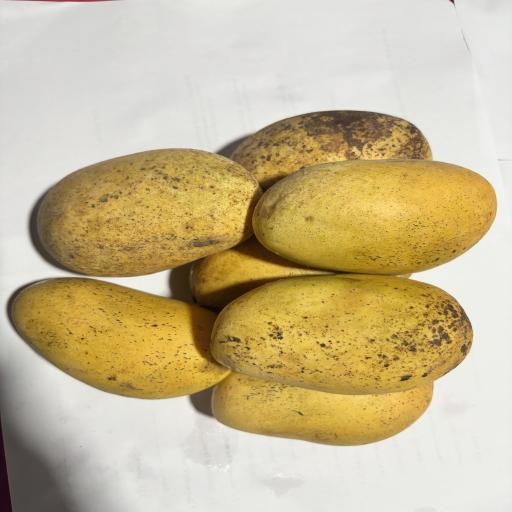fruit: (212, 261, 473, 399), (240, 148, 512, 280), (0, 263, 239, 407), (24, 137, 257, 282), (209, 100, 476, 194), (210, 362, 450, 456)
